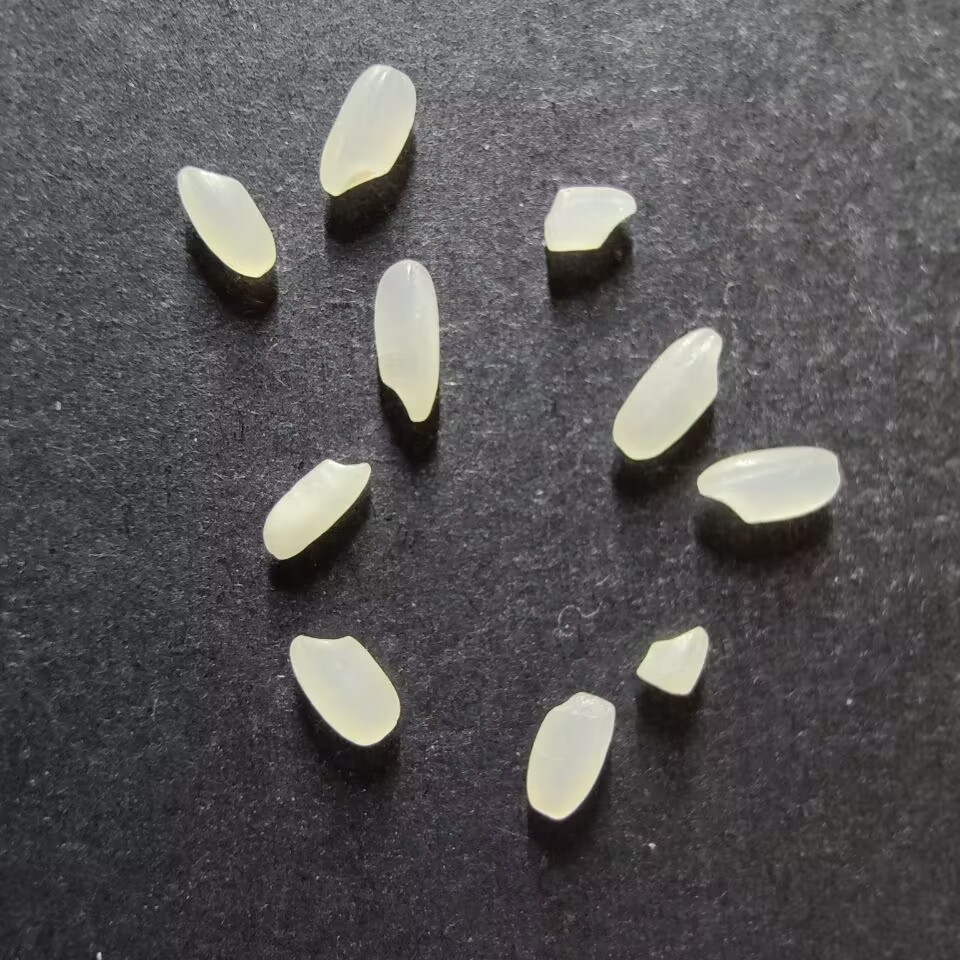broken: (543, 185, 637, 251), (635, 625, 708, 696)
rice: (612, 327, 722, 460), (318, 64, 416, 197), (288, 634, 399, 746), (525, 691, 615, 820), (175, 165, 276, 277), (696, 446, 840, 524), (262, 458, 371, 560), (373, 259, 440, 422)
